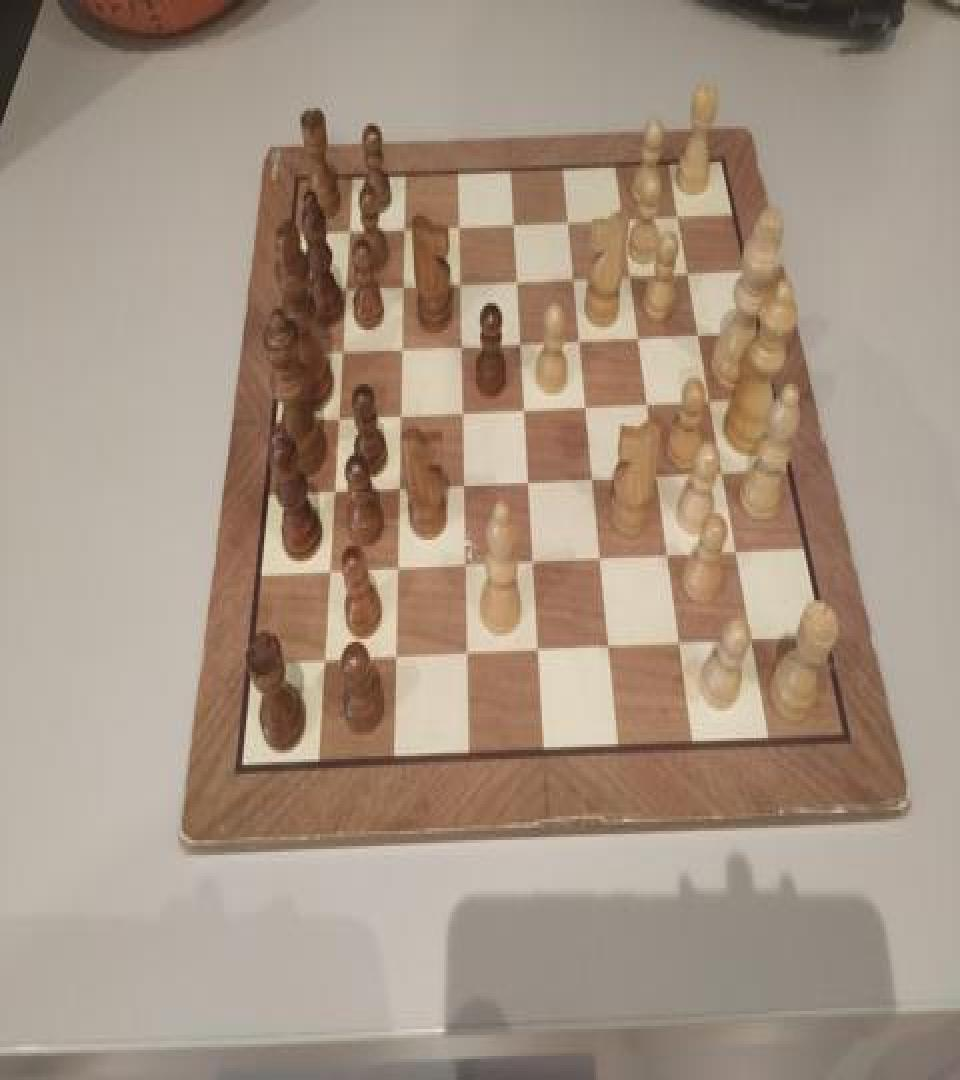xcorner: (557, 199, 577, 230), (310, 650, 330, 680), (382, 645, 402, 675), (454, 640, 474, 670), (598, 633, 618, 663), (670, 628, 690, 658), (743, 626, 763, 656), (315, 558, 335, 588), (384, 555, 404, 585), (521, 548, 541, 578), (590, 543, 610, 573), (659, 540, 679, 570), (320, 477, 340, 507), (385, 472, 405, 502), (451, 470, 471, 500), (516, 465, 536, 495), (582, 462, 602, 492), (648, 459, 668, 489), (714, 454, 734, 484), (325, 402, 345, 432), (387, 399, 407, 429), (450, 394, 470, 424), (512, 392, 532, 422), (575, 387, 595, 417), (638, 384, 658, 414), (701, 381, 721, 411), (329, 333, 349, 363), (389, 330, 409, 360), (448, 327, 468, 357), (509, 322, 529, 352), (569, 320, 589, 350), (629, 316, 649, 346), (689, 312, 709, 342), (332, 270, 352, 300), (390, 267, 410, 297), (447, 264, 467, 294), (505, 261, 525, 291), (563, 256, 583, 286), (621, 254, 641, 284), (678, 250, 698, 280), (336, 213, 356, 243), (391, 208, 411, 238), (446, 206, 466, 236), (502, 202, 522, 232), (613, 196, 633, 226), (668, 192, 688, 222), (526, 638, 546, 667), (452, 551, 472, 580), (728, 536, 748, 565)
